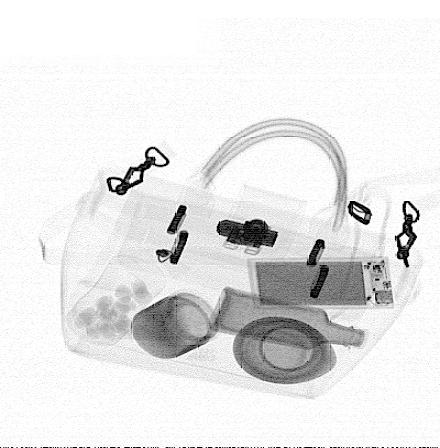Powerbank: (247, 255, 394, 310)
